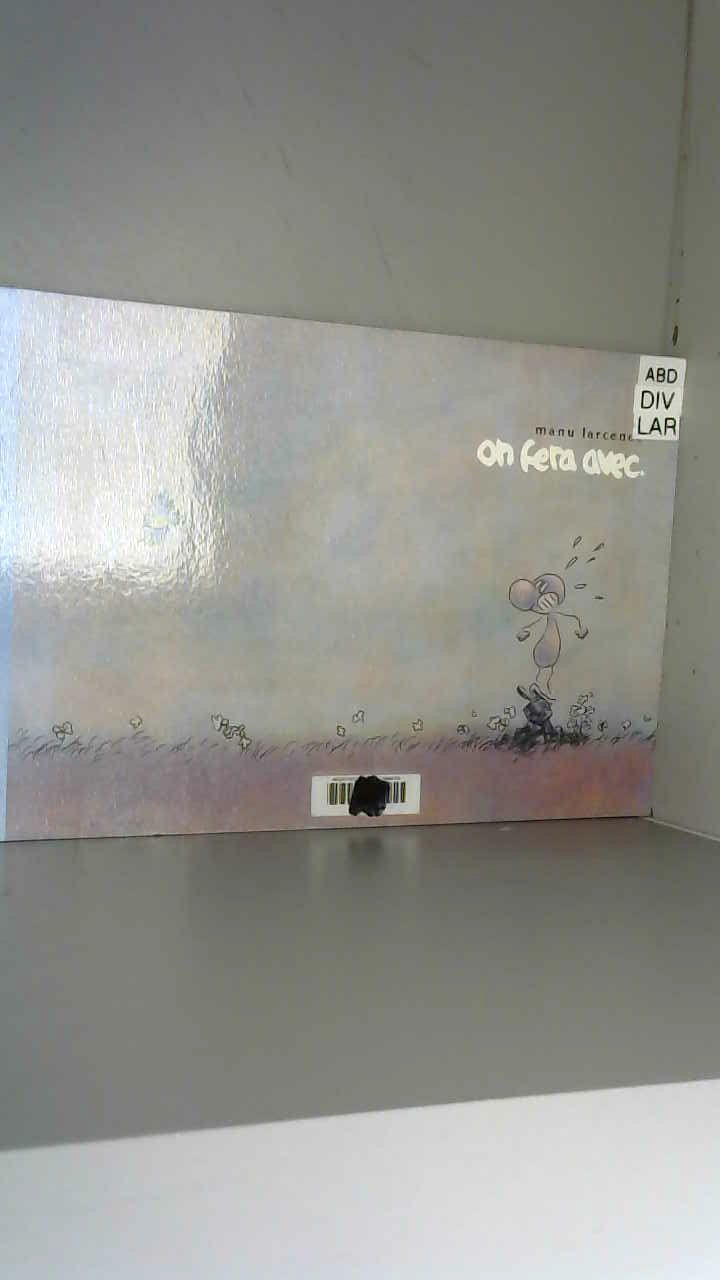book: (0, 281, 692, 855)
